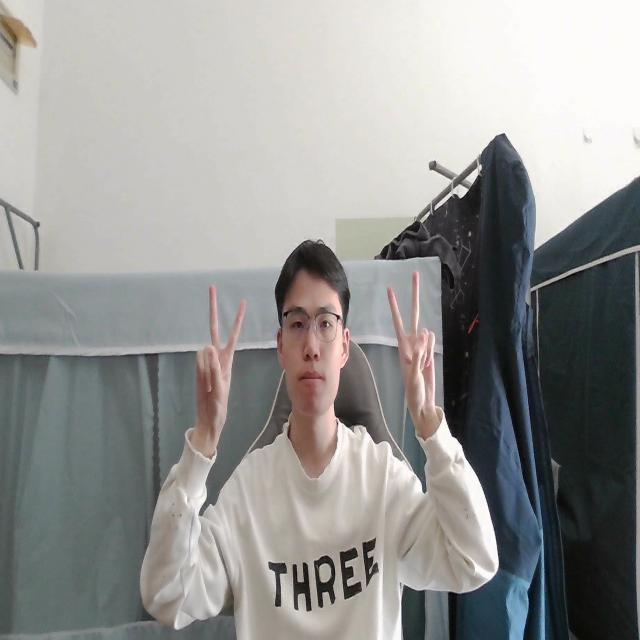yes: (192, 282, 247, 440), (388, 268, 437, 421)
